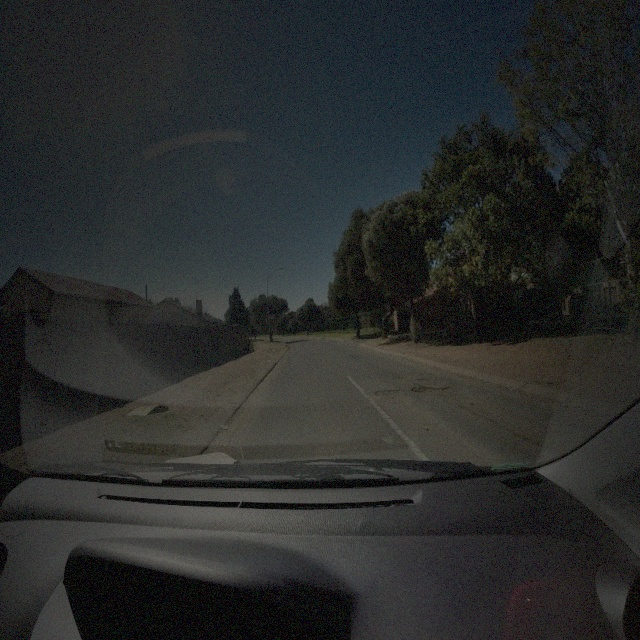pothole: (409, 378, 455, 396), (371, 386, 406, 398)
